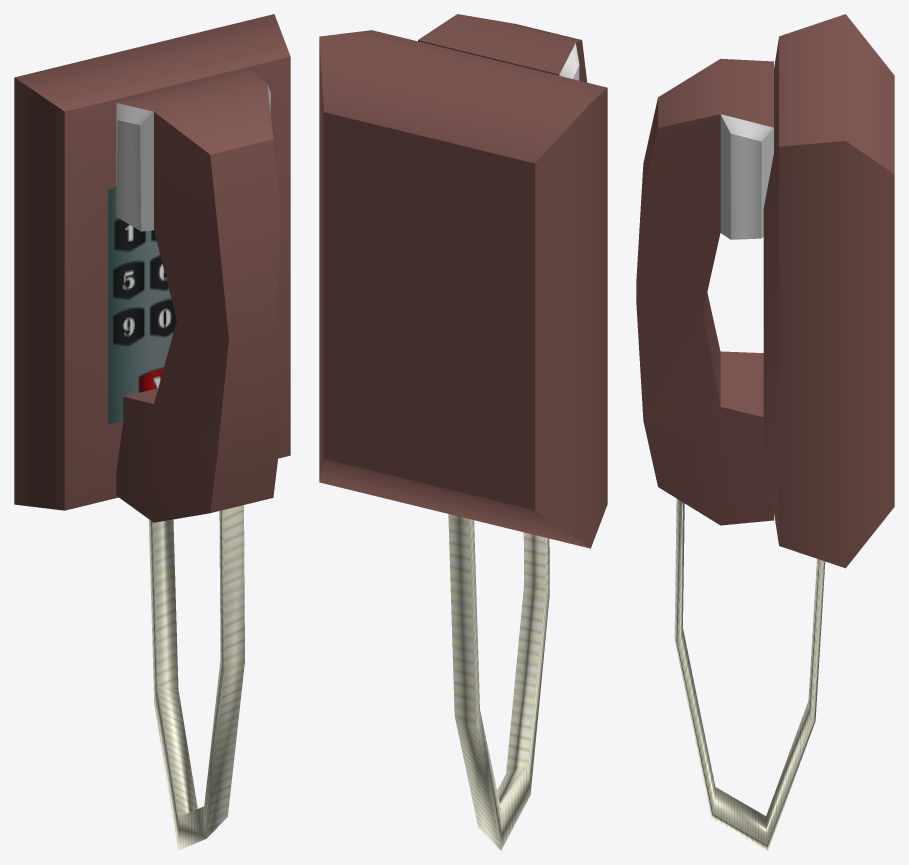
File: Wall_Phone_E.FBX
The picture shows the model from 3 angles, left to right: view 1: azimuth 30°, elevation 25°; view 2: azimuth 150°, elevation 25°; view 3: azimuth 270°, elevation 25°; orthographic projection. The views are drawn at different scales.
Parts seen in each view (by area): view 1: Wall_Phone; view 2: Wall_Phone; view 3: Wall_Phone.
Boxes of the visible parts, x1=… form: Wall_Phone: x1=14, y1=14, x2=290, y2=850; Wall_Phone: x1=319, y1=14, x2=607, y2=850; Wall_Phone: x1=636, y1=14, x2=894, y2=850.
Size of the model in its own units: 57.35 by 163 by 49.28.
